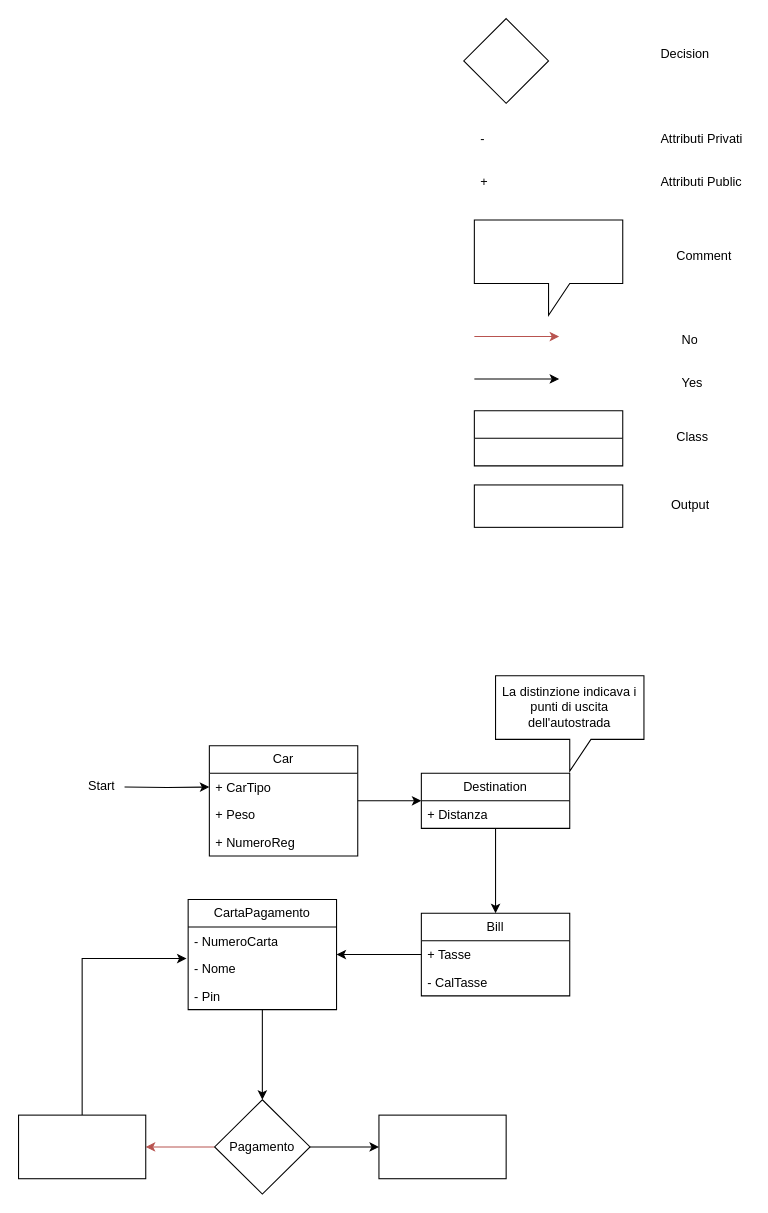
This 768x1213 diagram has some shape labels left out. Here are the shapes that lost their labels. From the top down, the centre of each, then its label:
(x=81, y=1146): Errore
(x=442, y=1146): Scontrino
